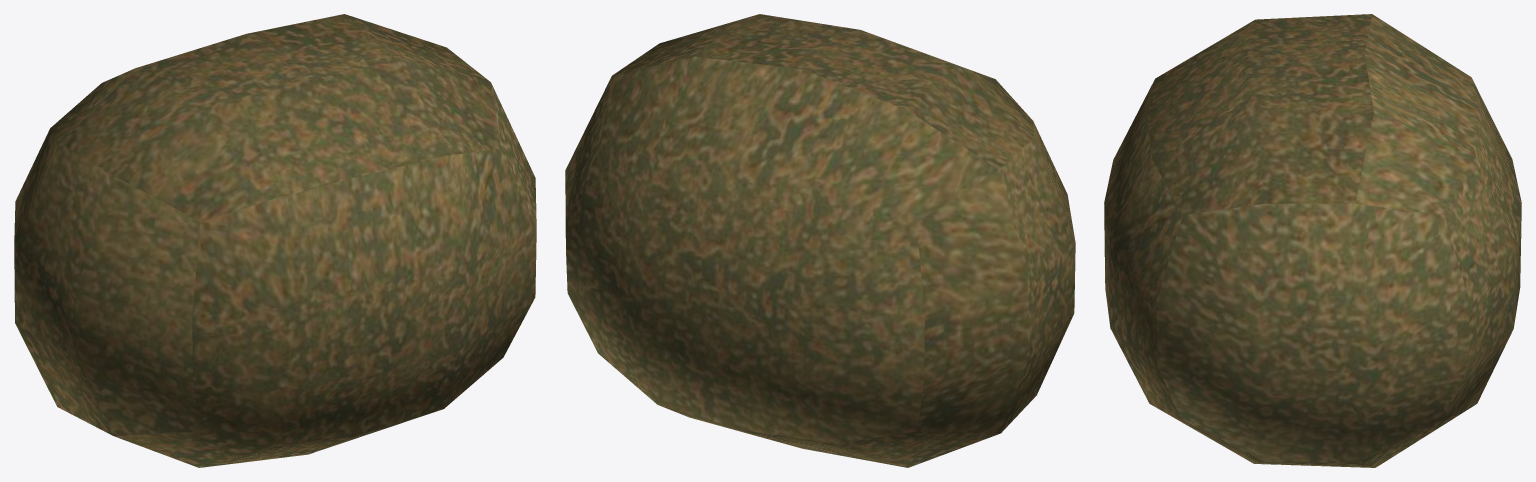
The model's file is kiwi.fbx.
3 views of the same model, side by side, from view 1: azimuth 30°, elevation 25°; view 2: azimuth 150°, elevation 25°; view 3: azimuth 270°, elevation 25° (orthographic). The views are drawn at different scales.
Parts seen in each view (by area): view 1: kiwi; view 2: kiwi; view 3: kiwi.
Boxes of the visible parts, x1,y1,x2,y2 form: kiwi: (14, 14, 536, 467); kiwi: (565, 14, 1075, 467); kiwi: (1104, 14, 1521, 467).
Size of the model in its own units: 26.86 by 21.14 by 21.51.
Materials: 1 (1 with a texture image).
